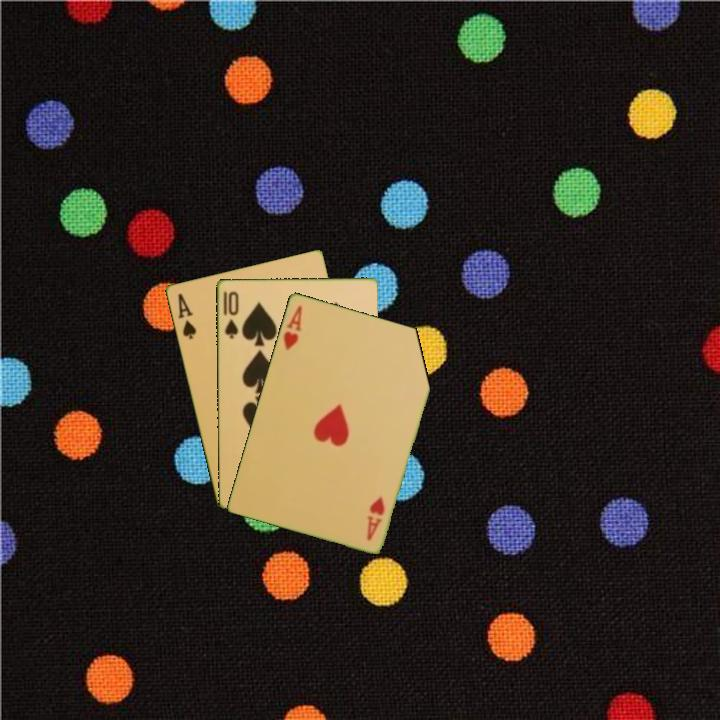10s: (220, 287, 241, 341)
Ah: (279, 302, 305, 353), (363, 492, 387, 543)
As: (174, 290, 199, 342)
